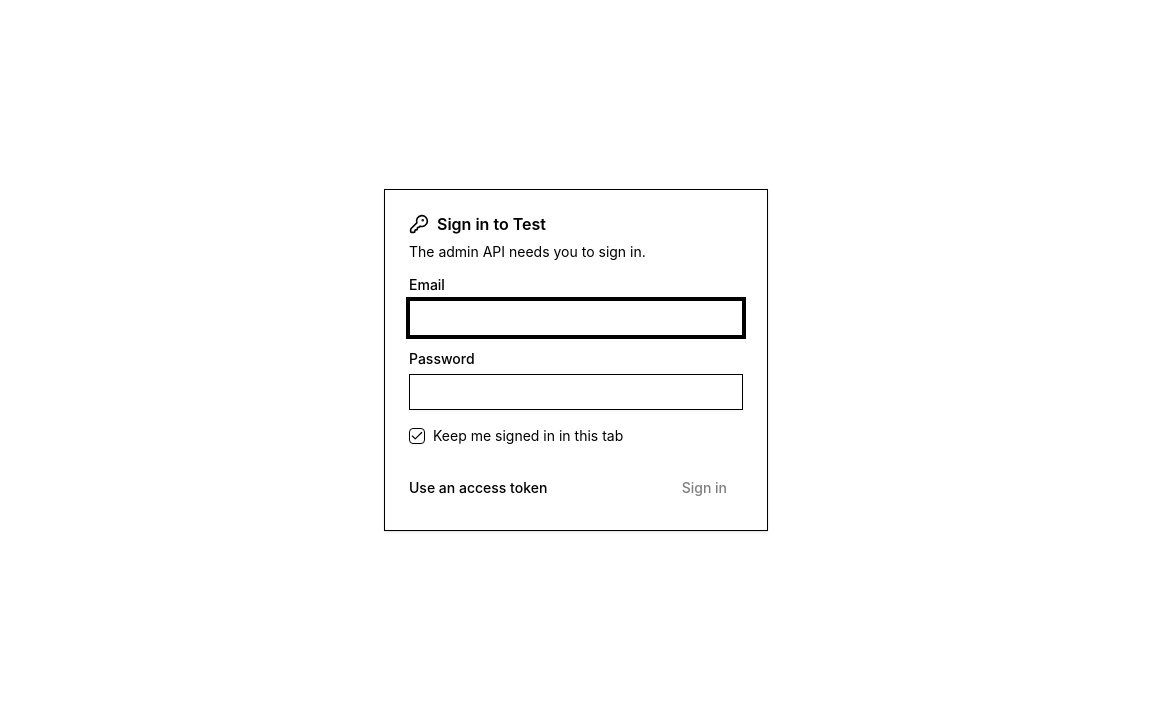
it: signing in with a password › keeps the token way in, and says when the server can't be reached
The image size is (1152, 720).
Type "cal@shop.test" into the field labelled "Email".
click(576, 318); type("cal@shop.test")  # box [409, 300, 743, 336]
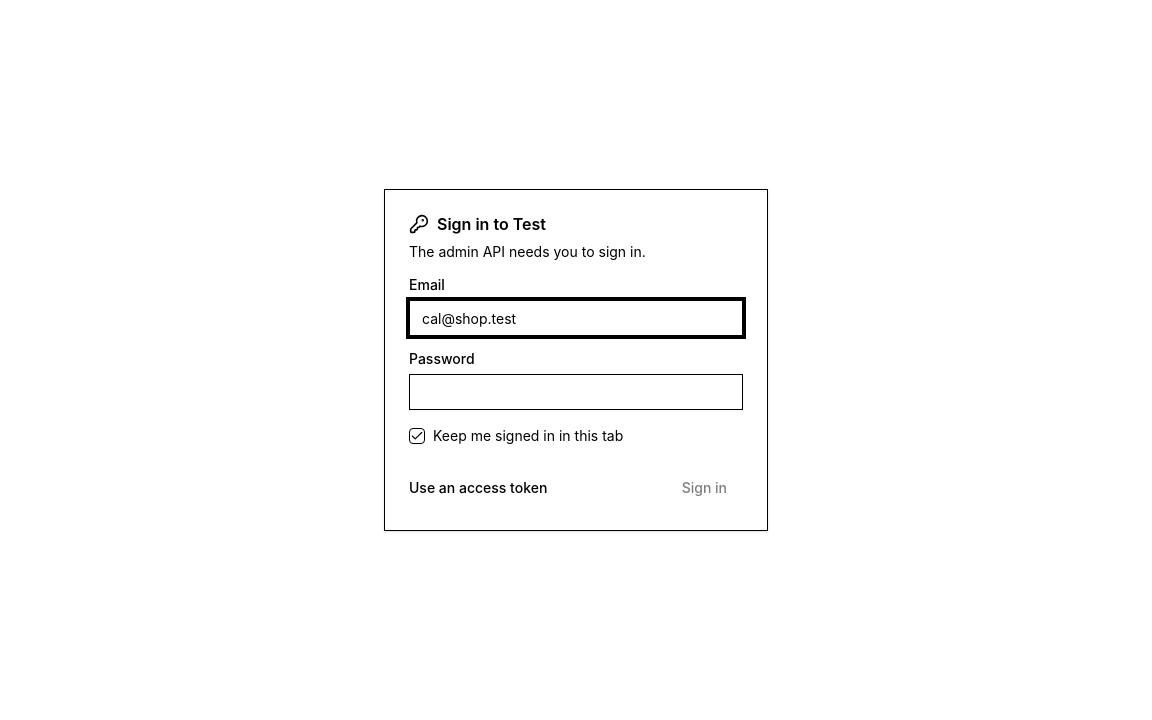
Type "anything" into the password field labelled "Password".
click(576, 392); type("anything")  # box [409, 374, 743, 410]
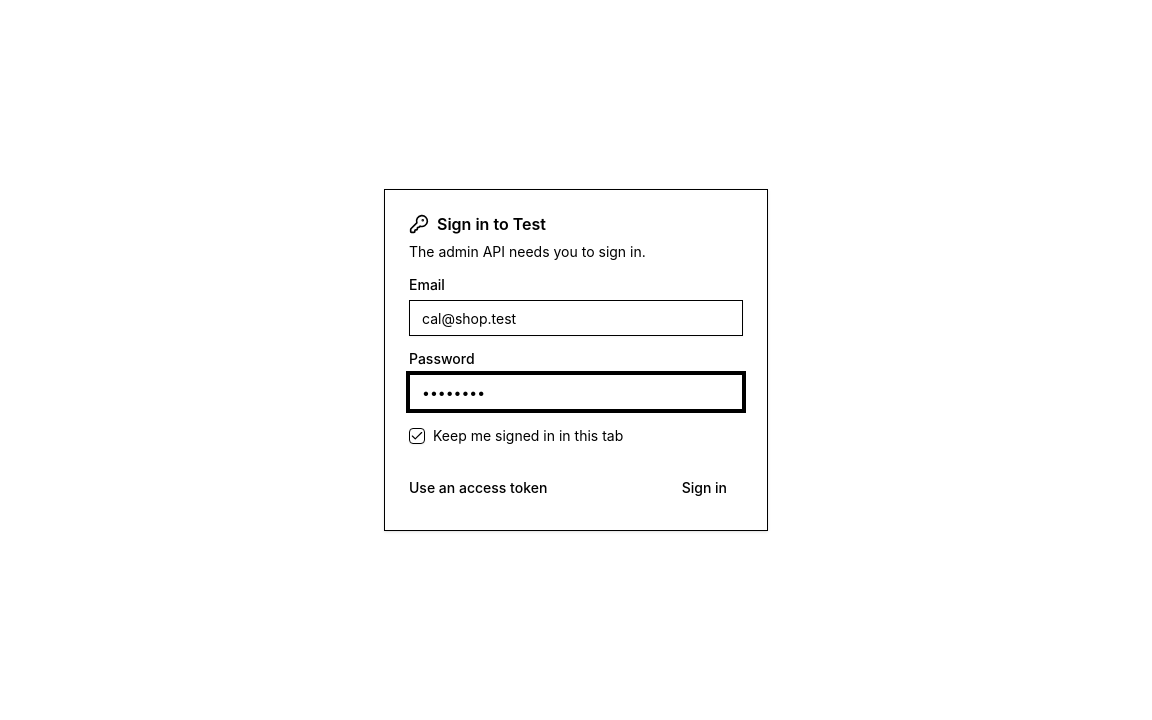
Click the button "Sign in".
click(704, 488)  # box [666, 470, 743, 506]
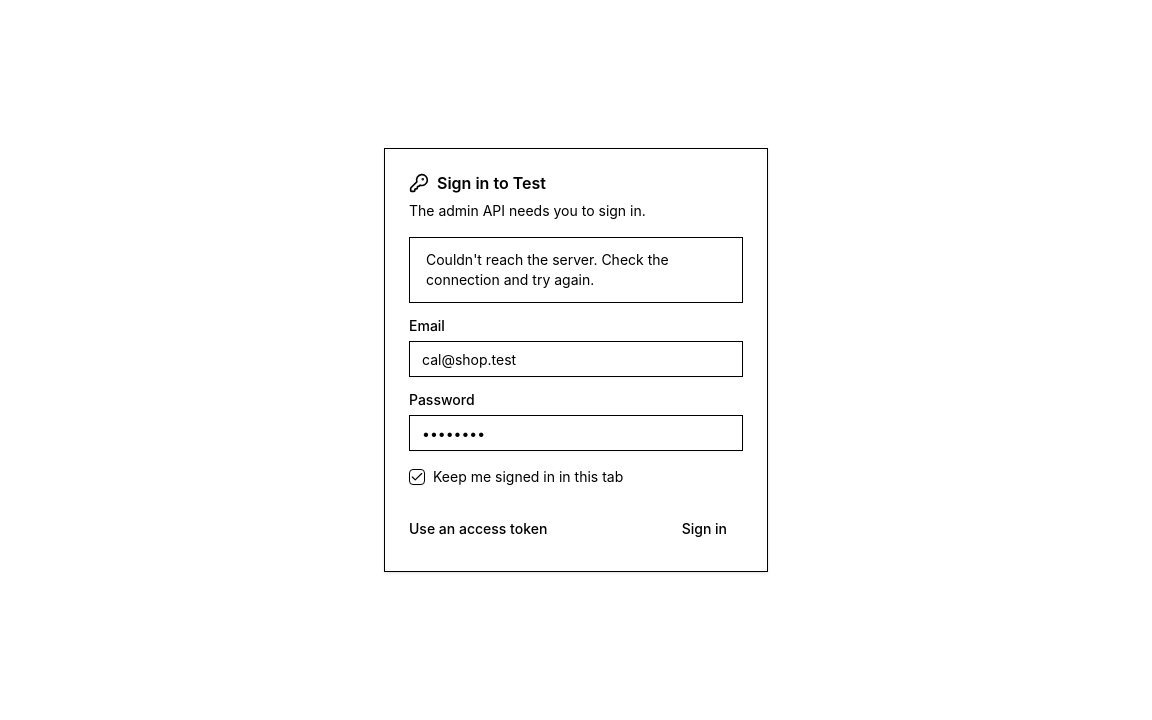
Result: the text "Couldn't reach the server" is shown at [426, 251, 669, 288]
Click the button "Use an access token".
click(478, 529)  # box [409, 511, 547, 547]
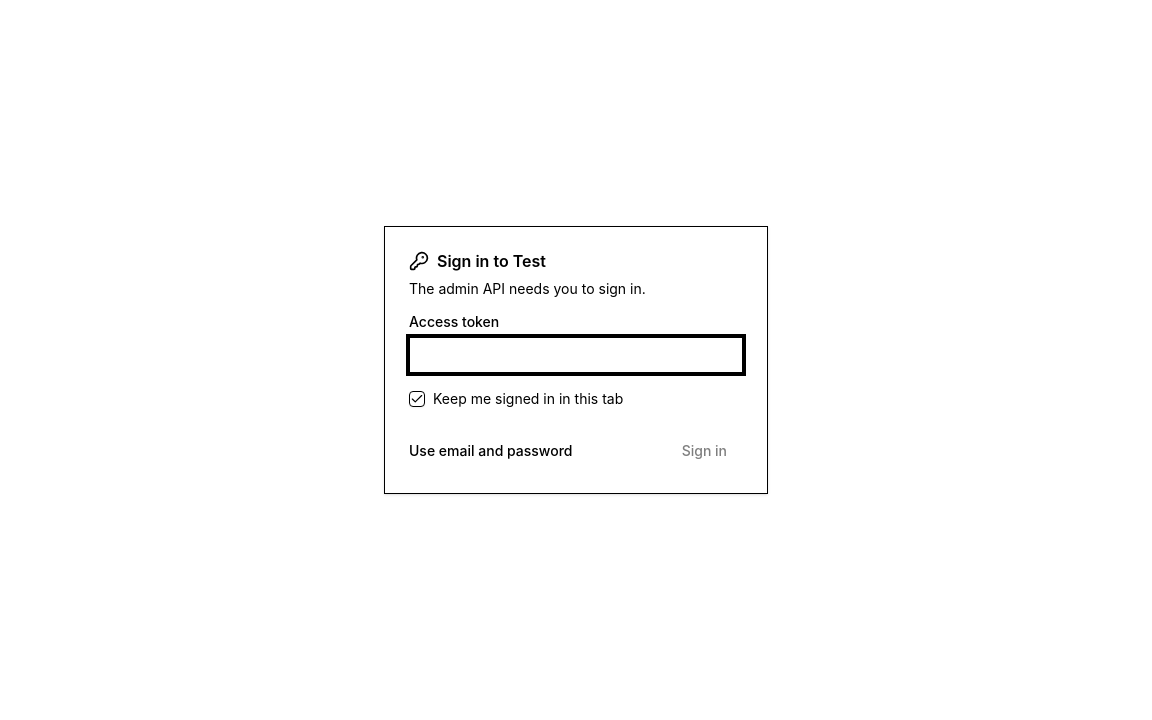
Type "pasted" into the password field labelled "Access token".
click(576, 355); type("pasted")  # box [409, 337, 743, 373]
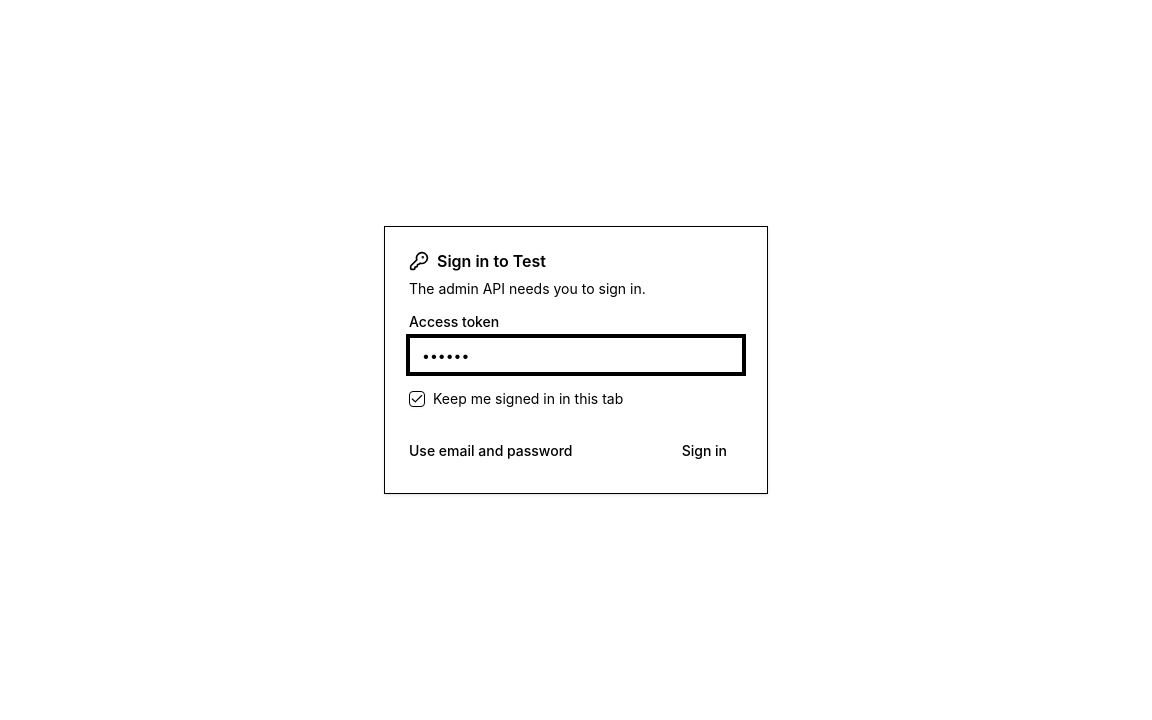
Click the button "Sign in".
click(704, 451)  # box [666, 433, 743, 469]
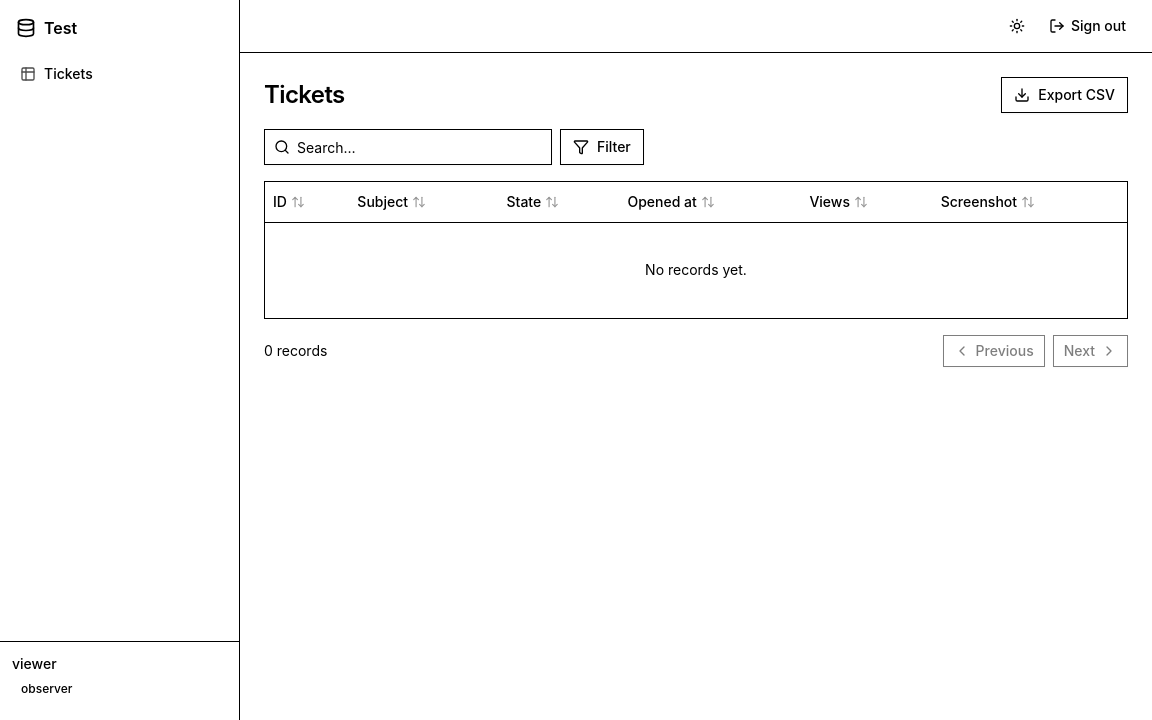
Result: the text "No records yet." is shown at [265, 222, 1127, 318]
